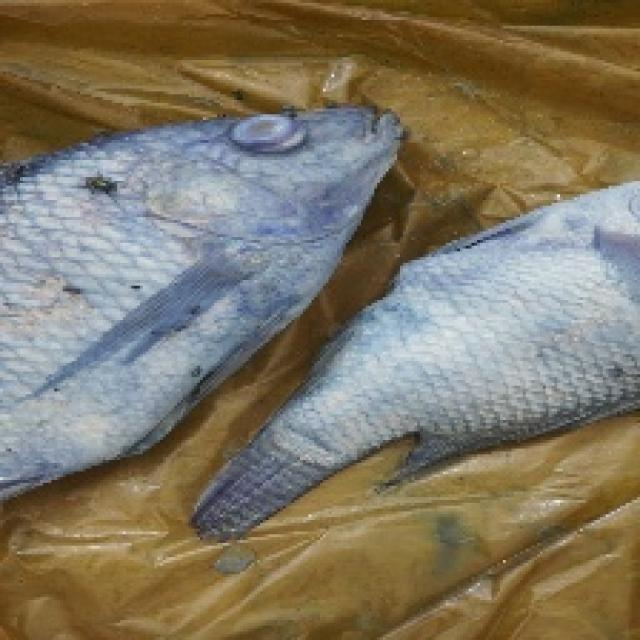Non-Fresh: (8, 66, 418, 347)
